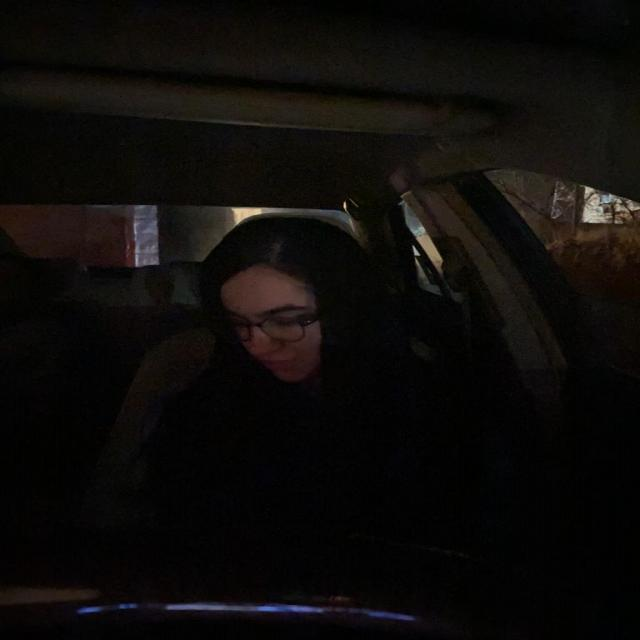drowsy: (194, 240, 374, 400)
